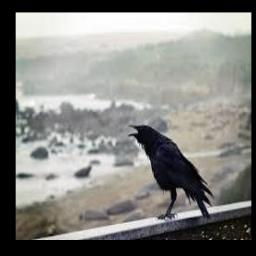Crow: (127, 123, 215, 221)
